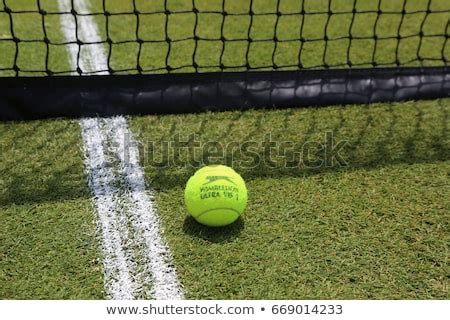tennis_ball: (184, 164, 247, 226)
